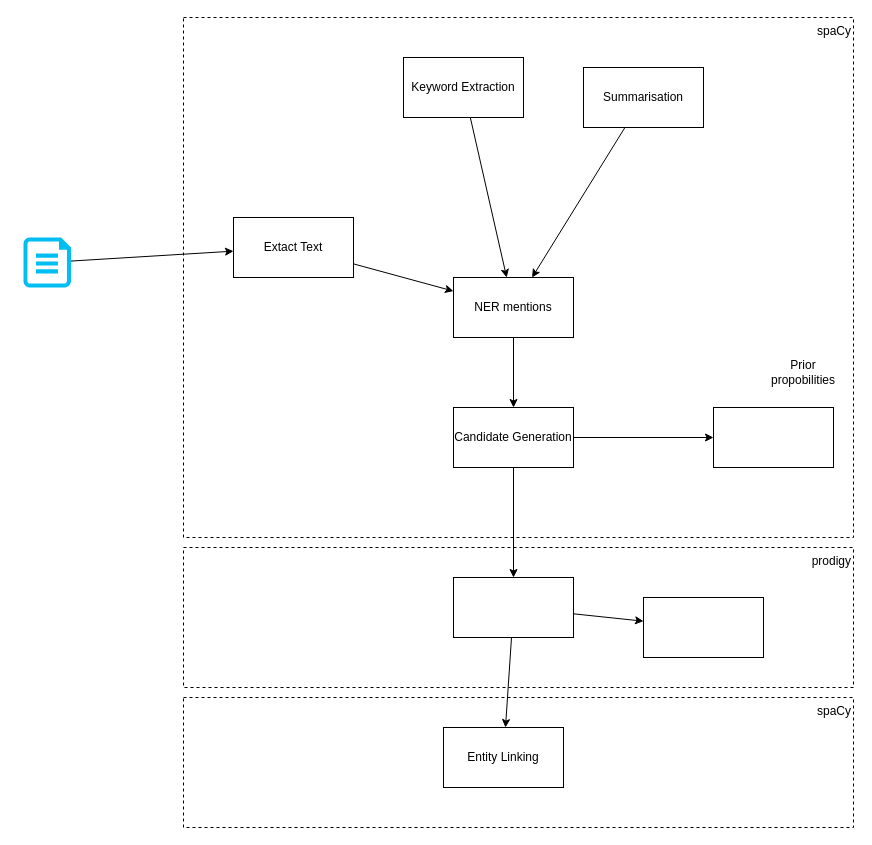
The diagram is 872 pixels wide and 845 high, and some of its shapes have lost their labels. Each missing label, with the centre of its shape:
Annotation: point 513,607
Dcocument: point 46,262
jsonl: point 703,627
Knowledge Base: point 773,437
